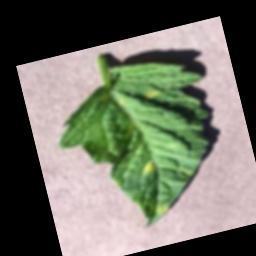Leaf_Mold: (140, 159, 158, 178), (143, 87, 163, 102), (154, 203, 172, 218)
